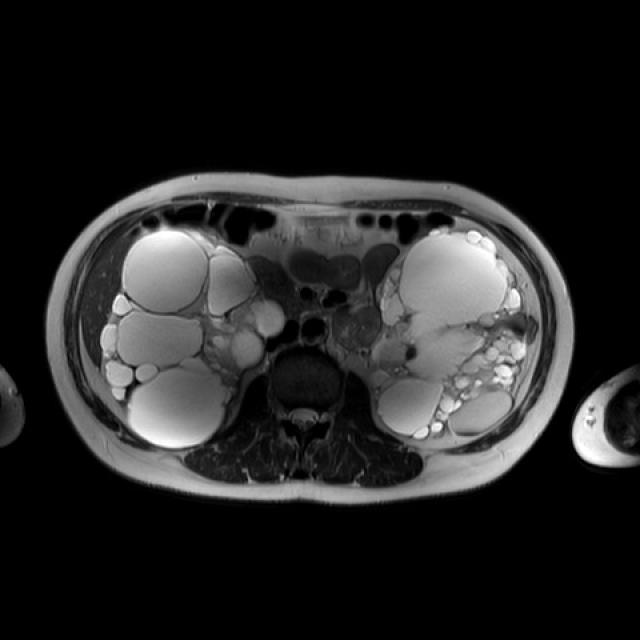sag: (99, 231, 285, 448)
sol: (374, 229, 538, 436)
